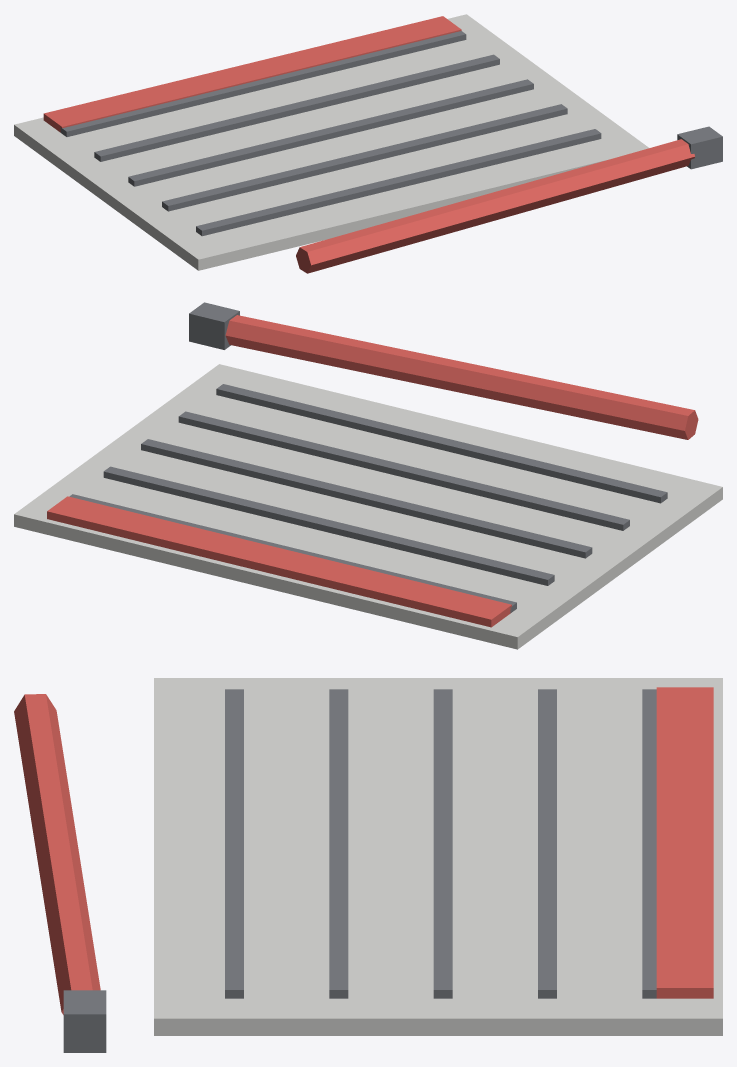
The model's file is golf-course-and-clubhouse-scorecard-and-pencil-6cfe35f0__33490.glb.
3 views of the same model, one above another, from view 1: azimuth 30°, elevation 25°; view 2: azimuth 150°, elevation 25°; view 3: azimuth 270°, elevation 25° (orthographic). The views are drawn at different scales.
Parts seen in each view (by area): view 1: scorecard-and-pencil; view 2: scorecard-and-pencil; view 3: scorecard-and-pencil.
Boxes of the visible parts, x1,y1,x2,y2 form: scorecard-and-pencil: (14, 14, 722, 273); scorecard-and-pencil: (14, 302, 722, 649); scorecard-and-pencil: (14, 678, 722, 1052).
Size of the model in its own units: 0.186 by 0.0125 by 0.1495.
